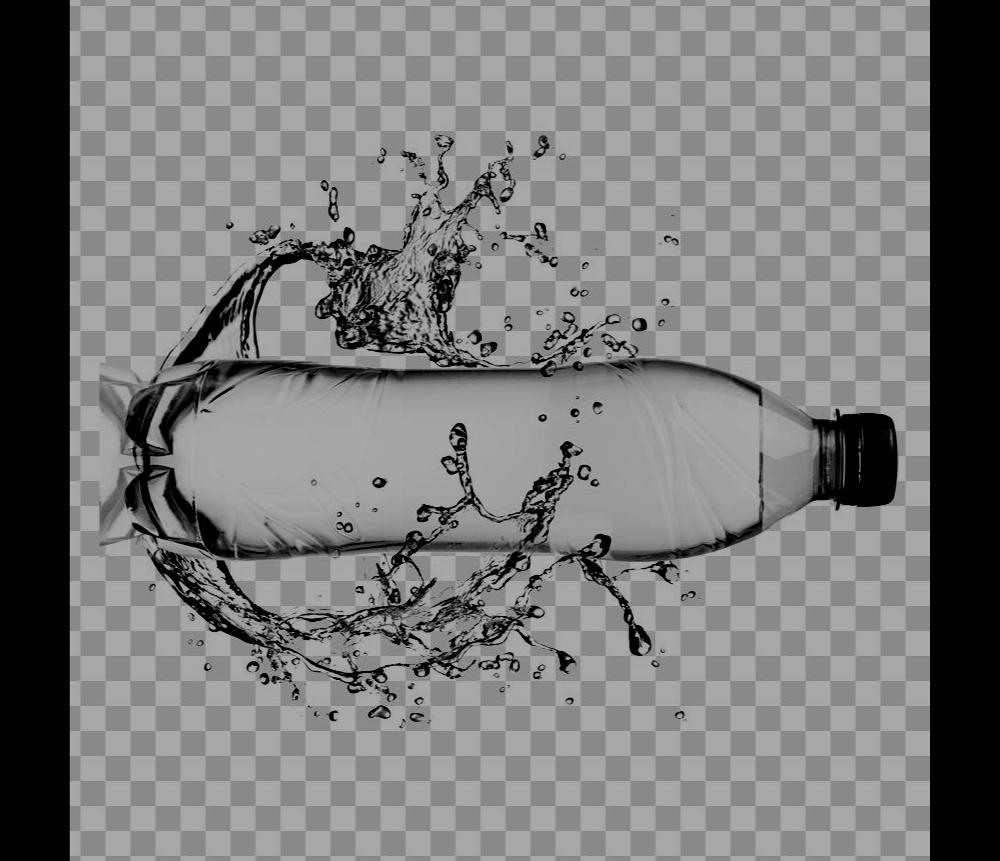bottle: (98, 347, 899, 557)
